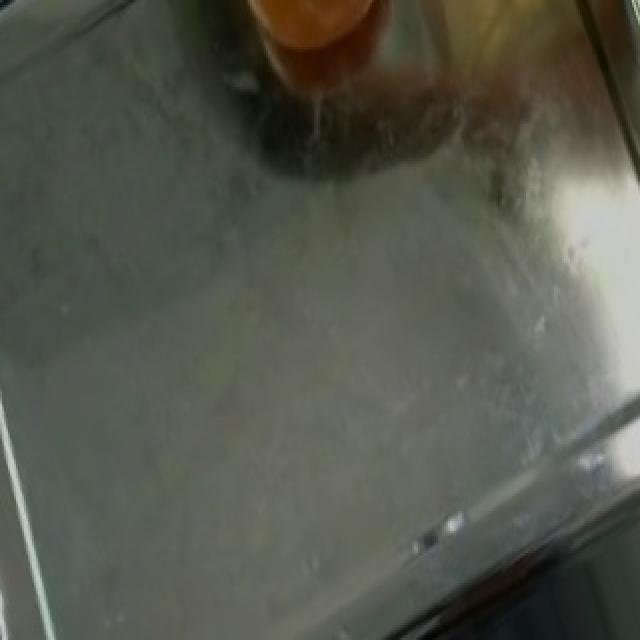Fruit: (216, 0, 410, 79), (0, 0, 176, 64)
